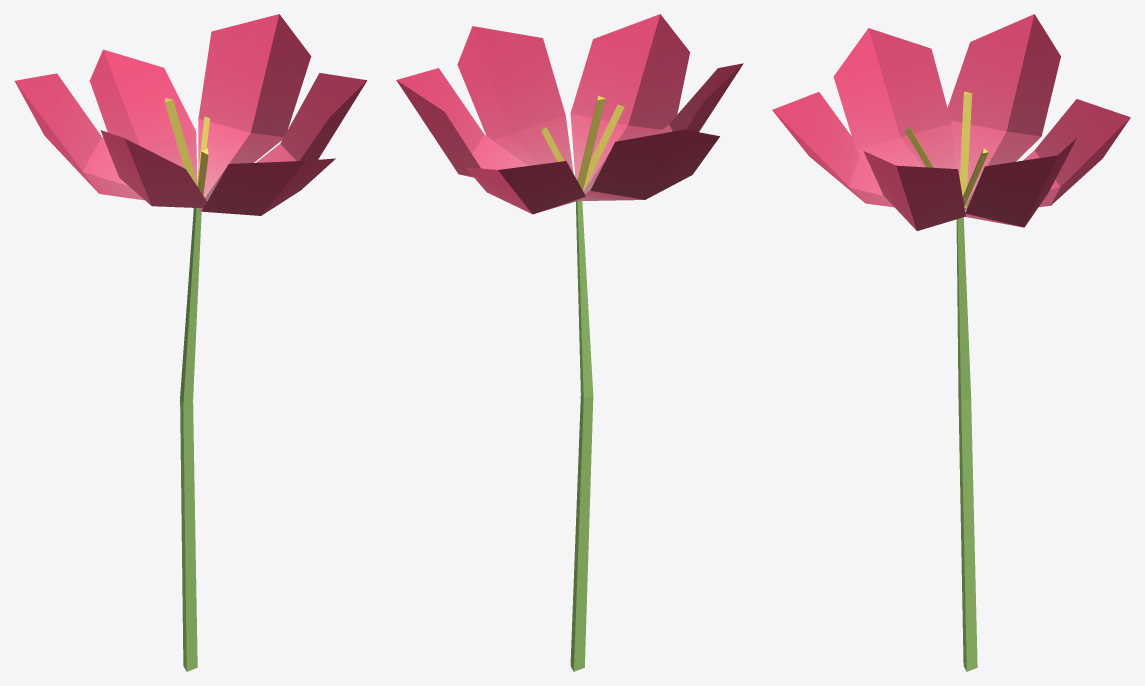
The model's file is Flower_f_TwoS_05.fbx.
The picture shows the model from 3 angles, left to right: view 1: azimuth 30°, elevation 25°; view 2: azimuth 150°, elevation 25°; view 3: azimuth 270°, elevation 25°; orthographic projection.
Parts seen in each view (by area): view 1: Flower_f_TwoS_05; view 2: Flower_f_TwoS_05; view 3: Flower_f_TwoS_05.
Boxes of the visible parts, <box> form: Flower_f_TwoS_05: <box>14,14,367,671</box>; Flower_f_TwoS_05: <box>396,14,743,671</box>; Flower_f_TwoS_05: <box>772,14,1130,671</box>.
Size of the model in its own units: 0.2598 by 0.52 by 0.2882.
